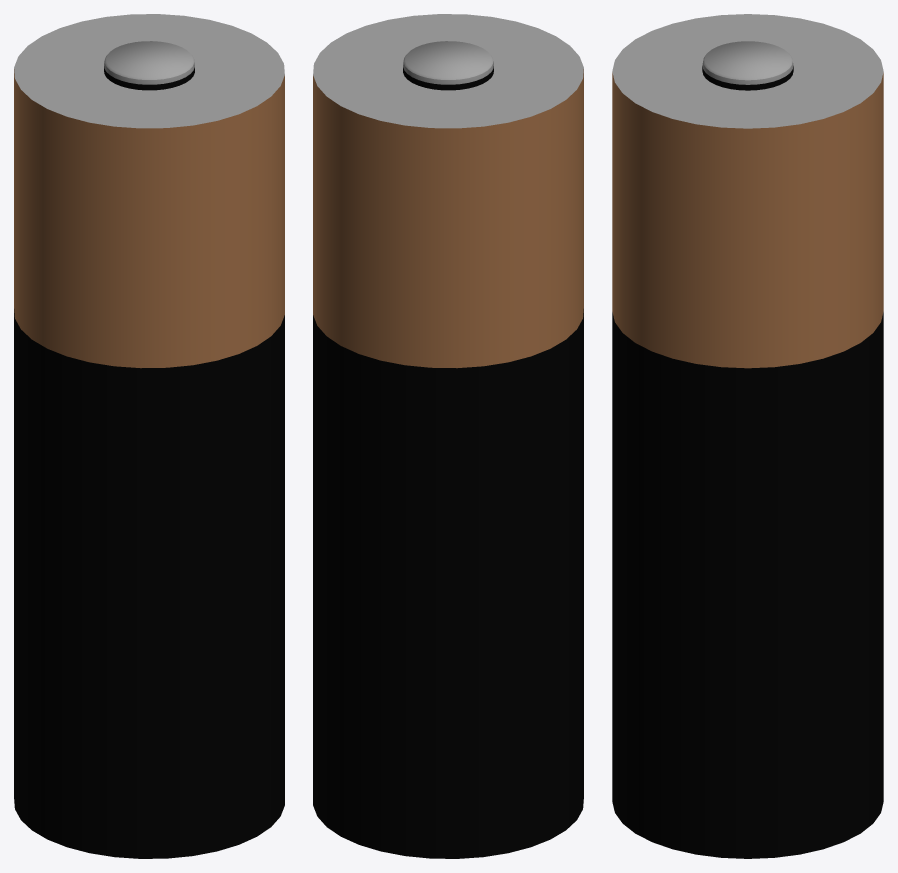
File: battery.fbx
3 views of the same model, side by side, from view 1: azimuth 30°, elevation 25°; view 2: azimuth 150°, elevation 25°; view 3: azimuth 270°, elevation 25° (orthographic).
Visible parts, largest first — view 1: metal; view 2: metal; view 3: metal.
Part boxes in pixels (box(x1,y1,x2,y2)): metal: box(14, 14, 284, 858); metal: box(313, 14, 583, 858); metal: box(612, 14, 883, 858).
Size of the model in its own units: 200 by 603 by 200.
